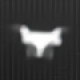plane: (13, 23, 69, 61)
